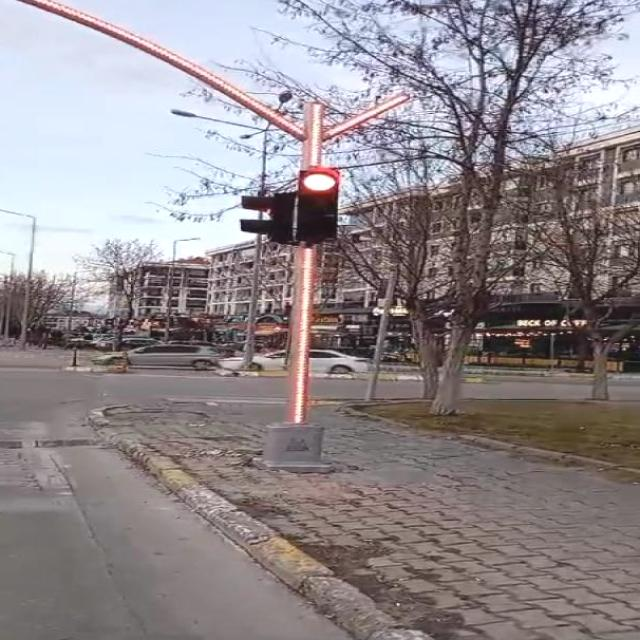kirmizi: (297, 170, 340, 243)
